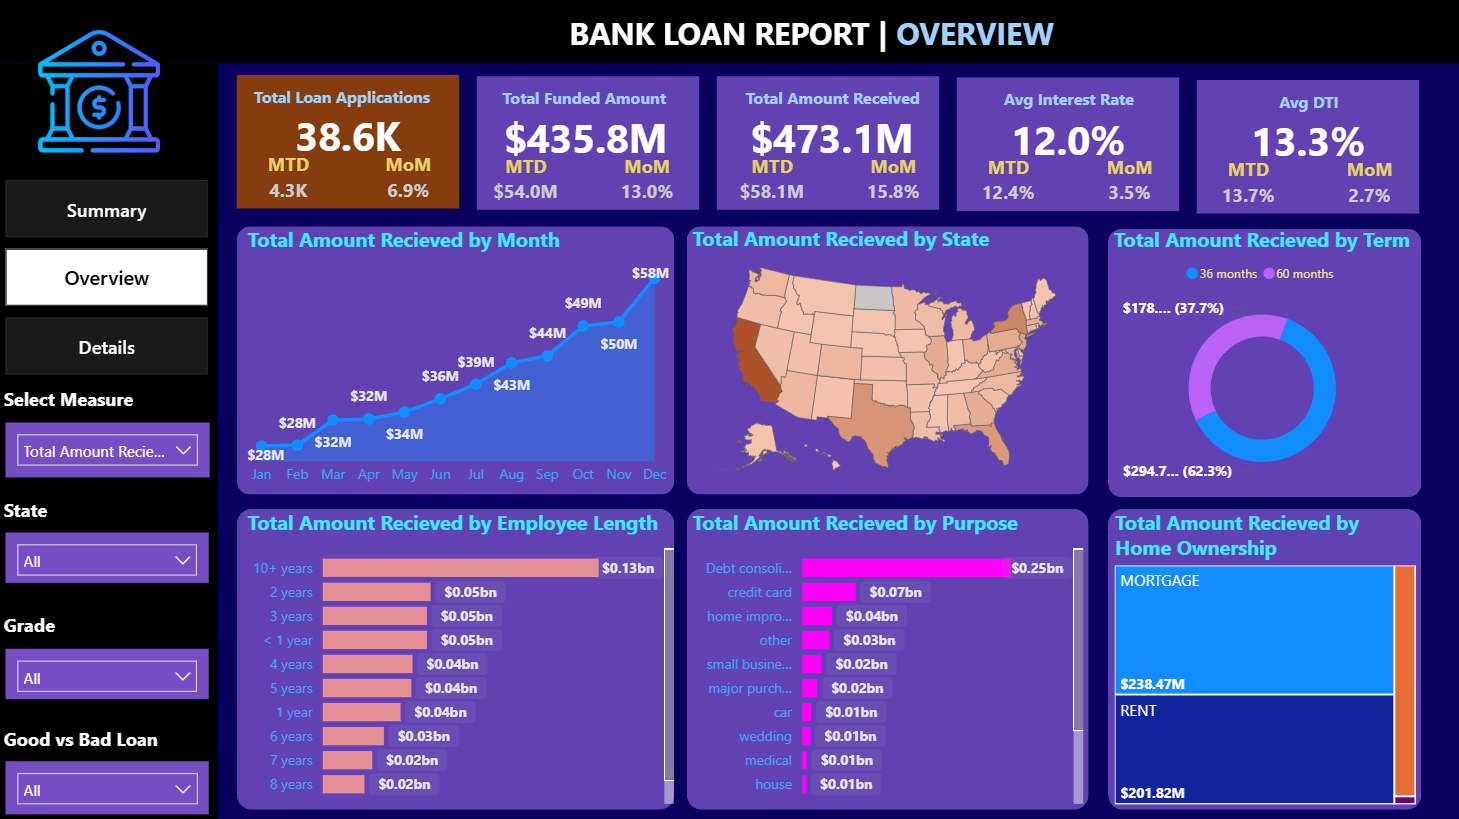

Layout of this report page (visuals, bound fields, positions):
{"tool":"powerbi","page":{"name":"Overview","canvas":[1280,720],"ordinal":1},"visuals":[{"type":"shape","box":[0,0,1280.2,55.6],"z":0},{"type":"shape","box":[0,55.6,192,663.9],"z":1000},{"type":"textbox","box":[486.4,4.9,449.4,48.1],"z":2000},{"type":"shape","box":[208.3,65.3,194.4,116.7],"z":3000},{"type":"card","fields":{"Values":["bank_loan_data.Total Loan Applications"]},"box":[208.3,98.6,194.4,41.7],"z":4000},{"type":"textbox","box":[218.1,69.4,176.4,29.2],"z":5000},{"type":"card","title":"MTD","fields":{"Values":["bank_loan_data.MTD Loan Applications"]},"box":[218.1,131.9,70.8,50],"z":6000},{"type":"card","title":"MoM","fields":{"Values":["bank_loan_data.MoM Loan Applications"]},"box":[323.6,131.9,70.8,50],"z":7000},{"type":"shape","box":[418.2,66.4,194.4,116.7],"z":8000},{"type":"card","fields":{"Values":["bank_loan_data.Total Funded Amount"]},"box":[416.1,99.7,194.4,41.7],"z":9000},{"type":"textbox","box":[425.8,70.6,176.4,29.2],"z":10000},{"type":"card","title":"MTD","fields":{"Values":["bank_loan_data.MTD Funded Amount"]},"box":[425.8,133.1,70.8,50],"z":11000},{"type":"card","title":"MoM","fields":{"Values":["bank_loan_data.MoM Total Funded Amount"]},"box":[531.4,133.1,70.8,50],"z":12000},{"type":"shape","box":[628.1,66.5,194.4,116.7],"z":13000},{"type":"card","fields":{"Values":["bank_loan_data.Total Amount Recieved"]},"box":[631.4,99.8,194.4,41.7],"z":14000},{"type":"textbox","box":[641.1,70.7,176.4,29.2],"z":15000},{"type":"card","title":"MTD","fields":{"Values":["bank_loan_data.MTD Total Amount Received"]},"box":[641.1,133.2,70.8,50],"z":16000},{"type":"card","title":"MoM","fields":{"Values":["bank_loan_data.MoM Total Amount Received"]},"box":[746.7,133.2,70.8,50],"z":17000},{"type":"shape","box":[838,67.7,194.4,116.7],"z":18000},{"type":"card","fields":{"Values":["bank_loan_data.Avg Intrest Rate"]},"box":[837.9,101.1,194.4,41.7],"z":19000},{"type":"textbox","box":[847.6,71.9,176.4,29.2],"z":20000},{"type":"card","title":"MTD","fields":{"Values":["bank_loan_data.MTD Avg Intrest Rate"]},"box":[847.6,134.4,70.8,50],"z":21000},{"type":"card","title":"MoM","fields":{"Values":["bank_loan_data.MoM Avg Intrest Rate"]},"box":[953.2,134.4,70.8,50],"z":22000},{"type":"shape","box":[1047.9,69.7,194.4,116.7],"z":23000},{"type":"card","fields":{"Values":["bank_loan_data.Avg DTI"]},"box":[1047.9,103.1,194.4,41.7],"z":24000},{"type":"textbox","box":[1057.6,73.9,176.4,29.2],"z":25000},{"type":"card","title":"MTD","fields":{"Values":["bank_loan_data.MTD Avg DTI"]},"box":[1057.6,136.4,70.8,50],"z":26000},{"type":"card","title":"MoM","fields":{"Values":["bank_loan_data.MoM Avg DTI"]},"box":[1163.2,136.4,70.8,50],"z":27000},{"type":"shape","box":[208.9,198,382.5,234.6],"z":28000},{"type":"slicer","fields":{"Values":["bank_loan_data.address_state"]},"box":[7,465.6,177.5,44.4],"z":29000},{"type":"textbox","box":[0.1,429.5,88.8,36.1],"z":30000},{"type":"slicer","fields":{"Values":["bank_loan_data.grade"]},"box":[7,566.9,177.5,44.4],"z":31000},{"type":"textbox","box":[0,530.3,89.5,36.6],"z":32000},{"type":"textbox","box":[0,629.3,160,36.6],"z":33000},{"type":"slicer","fields":{"Values":["bank_loan_data.Good vs Bad Loan"]},"box":[6.8,665.4,177.7,46.1],"z":34000},{"type":"areaChart","fields":{"Y":["bank_loan_data.Total Amount Recieved"],"Category":["Date Table.Month"]},"box":[212.9,198,378.4,234.6],"z":35000},{"type":"slicer","fields":{"Values":["Select Measure.Select Measure"]},"box":[6.9,368.9,178.2,48],"z":36000},{"type":"textbox","box":[0.1,331.7,138.3,36.6],"z":37000},{"type":"shape","box":[602.2,198,351.3,234.6],"z":38000},{"type":"shapeMap","fields":{"Value":["bank_loan_data.Total Amount Recieved"],"Category":["bank_loan_data.address_state"]},"box":[602.2,196.7,351.3,229.2],"z":39000},{"type":"shape","box":[969.7,199.4,274,234.6],"z":40000},{"type":"donutChart","fields":{"Y":["bank_loan_data.Total Amount Recieved"],"Category":["bank_loan_data.term"]},"box":[969.7,198,269.9,233.3],"z":41000},{"type":"shape","box":[208.9,444.8,382.5,263.1],"z":42000},{"type":"barChart","fields":{"Y":["bank_loan_data.Total Amount Recieved"],"Category":["bank_loan_data.emp_length"]},"box":[212.9,444.8,382.5,263.1],"z":43000},{"type":"shape","box":[602.2,444.8,351.3,263.1],"z":44000},{"type":"barChart","fields":{"Y":["bank_loan_data.Total Amount Recieved"],"Category":["bank_loan_data.purpose"]},"box":[602.2,444.8,351.3,263.1],"z":45000},{"type":"shape","box":[969.7,444.8,274,263.1],"z":46000},{"type":"treemap","fields":{"Values":["bank_loan_data.Total Amount Recieved"],"Group":["bank_loan_data.home_ownership"]},"box":[971.1,444.8,272.6,263.1],"z":47000},{"type":"pageNavigator","box":[6.8,157.3,177.7,170.9],"z":48000},{"type":"image","box":[16.3,19,143.8,122.1],"z":49000}]}

Visuals, with their boxes in screenshot pixels (x1, y1, x2, y2), scaled from the page's 1280x720 canvas onto the 1459x819 screenshot:
shape: detection(0, 0, 1458, 63)
shape: detection(0, 63, 219, 818)
textbox: detection(554, 6, 1067, 60)
shape: detection(237, 74, 459, 207)
card - bank_loan_data.Total Loan Applications: detection(237, 112, 459, 160)
textbox: detection(249, 79, 450, 112)
"MTD" card: detection(249, 150, 329, 207)
"MoM" card: detection(369, 150, 450, 207)
shape: detection(477, 76, 698, 208)
card - bank_loan_data.Total Funded Amount: detection(474, 113, 696, 161)
textbox: detection(485, 80, 686, 114)
"MTD" card: detection(485, 151, 566, 208)
"MoM" card: detection(606, 151, 686, 208)
shape: detection(716, 76, 938, 208)
card - bank_loan_data.Total Amount Recieved: detection(720, 114, 941, 161)
textbox: detection(731, 80, 932, 114)
"MTD" card: detection(731, 152, 811, 208)
"MoM" card: detection(851, 152, 932, 208)
shape: detection(955, 77, 1177, 210)
card - bank_loan_data.Avg Intrest Rate: detection(955, 115, 1177, 162)
textbox: detection(966, 82, 1167, 115)
"MTD" card: detection(966, 153, 1047, 210)
"MoM" card: detection(1086, 153, 1167, 210)
shape: detection(1194, 79, 1416, 212)
card - bank_loan_data.Avg DTI: detection(1194, 117, 1416, 165)
textbox: detection(1205, 84, 1407, 117)
"MTD" card: detection(1205, 155, 1286, 212)
"MoM" card: detection(1326, 155, 1407, 212)
shape: detection(238, 225, 674, 492)
slicer - bank_loan_data.address_state: detection(8, 530, 210, 580)
textbox: detection(0, 489, 101, 530)
slicer - bank_loan_data.grade: detection(8, 645, 210, 695)
textbox: detection(0, 603, 102, 645)
textbox: detection(0, 716, 182, 757)
slicer - bank_loan_data.Good vs Bad Loan: detection(8, 757, 210, 809)
areaChart - bank_loan_data.Total Amount Recieved x Date Table.Month: detection(243, 225, 674, 492)
slicer - Select Measure.Select Measure: detection(8, 420, 211, 474)
textbox: detection(0, 377, 158, 419)
shape: detection(686, 225, 1087, 492)
shapeMap - bank_loan_data.Total Amount Recieved x bank_loan_data.address_state: detection(686, 224, 1087, 484)
shape: detection(1105, 227, 1418, 494)
donutChart - bank_loan_data.Total Amount Recieved x bank_loan_data.term: detection(1105, 225, 1413, 491)
shape: detection(238, 506, 674, 805)
barChart - bank_loan_data.Total Amount Recieved x bank_loan_data.emp_length: detection(243, 506, 679, 805)
shape: detection(686, 506, 1087, 805)
barChart - bank_loan_data.Total Amount Recieved x bank_loan_data.purpose: detection(686, 506, 1087, 805)
shape: detection(1105, 506, 1418, 805)
treemap - bank_loan_data.Total Amount Recieved x bank_loan_data.home_ownership: detection(1107, 506, 1418, 805)
pageNavigator: detection(8, 179, 210, 373)
image: detection(19, 22, 182, 161)
